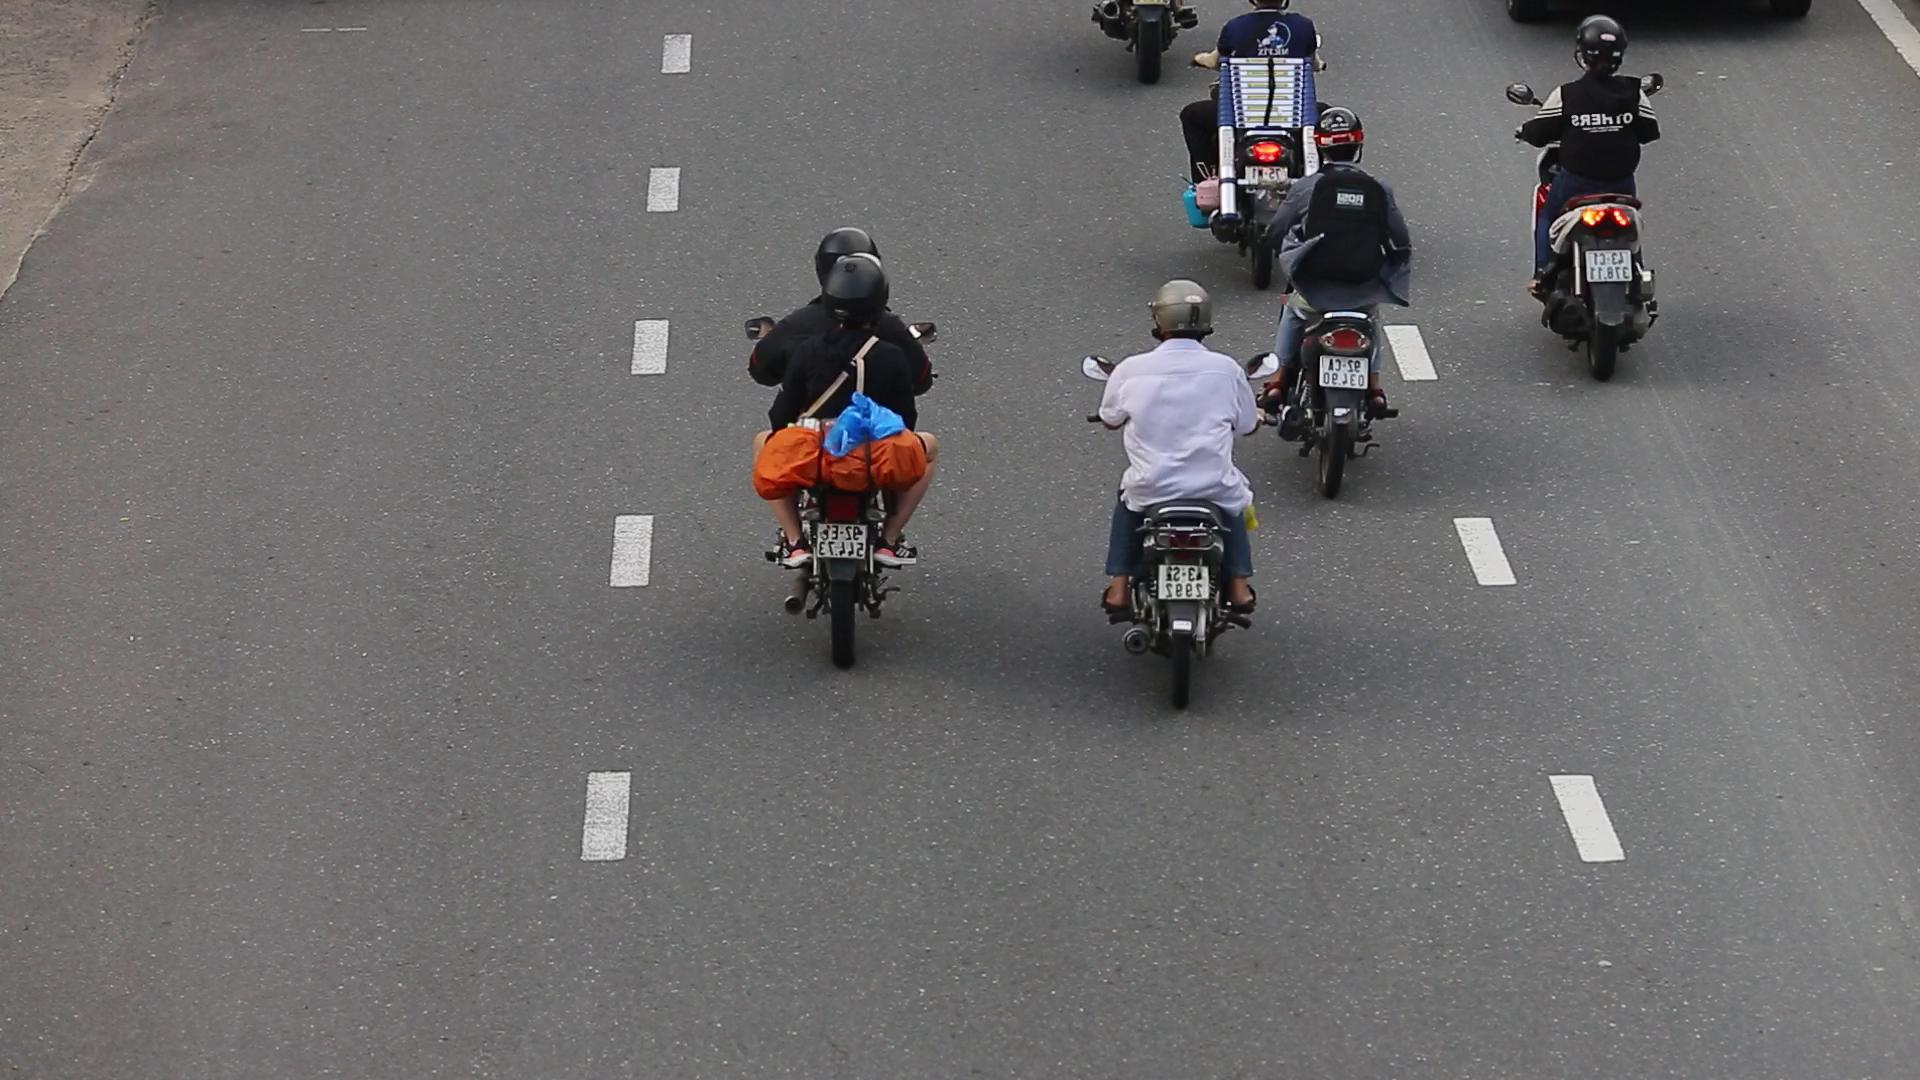motobike: (735, 218, 945, 676), (1073, 273, 1273, 717), (1254, 102, 1423, 498), (1493, 7, 1669, 385)
